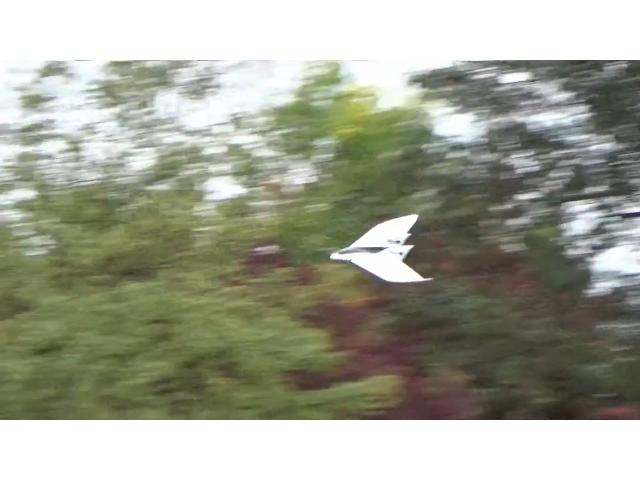Anti-Drone: (330, 214, 430, 282)
